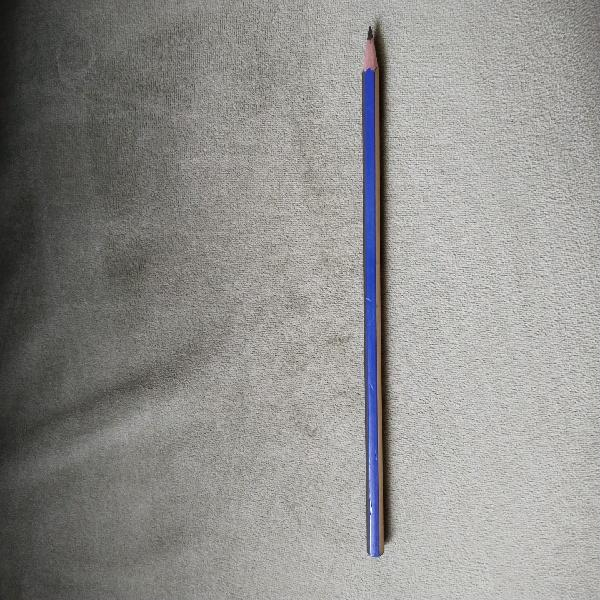pencil: (363, 26, 384, 556)
